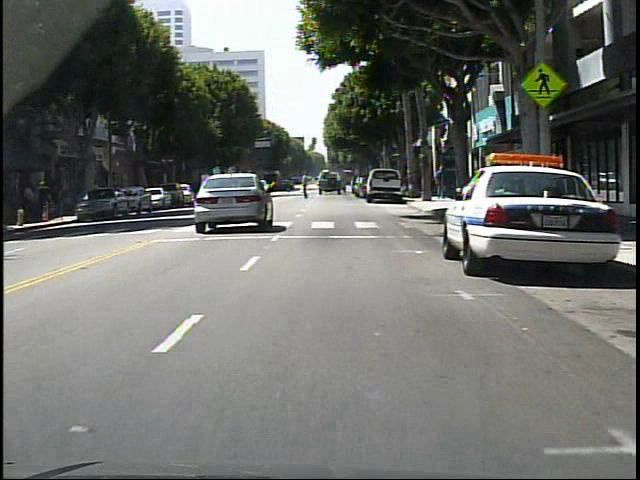person: (433, 164, 450, 204), (39, 180, 54, 222), (299, 169, 314, 203), (24, 183, 37, 221)
